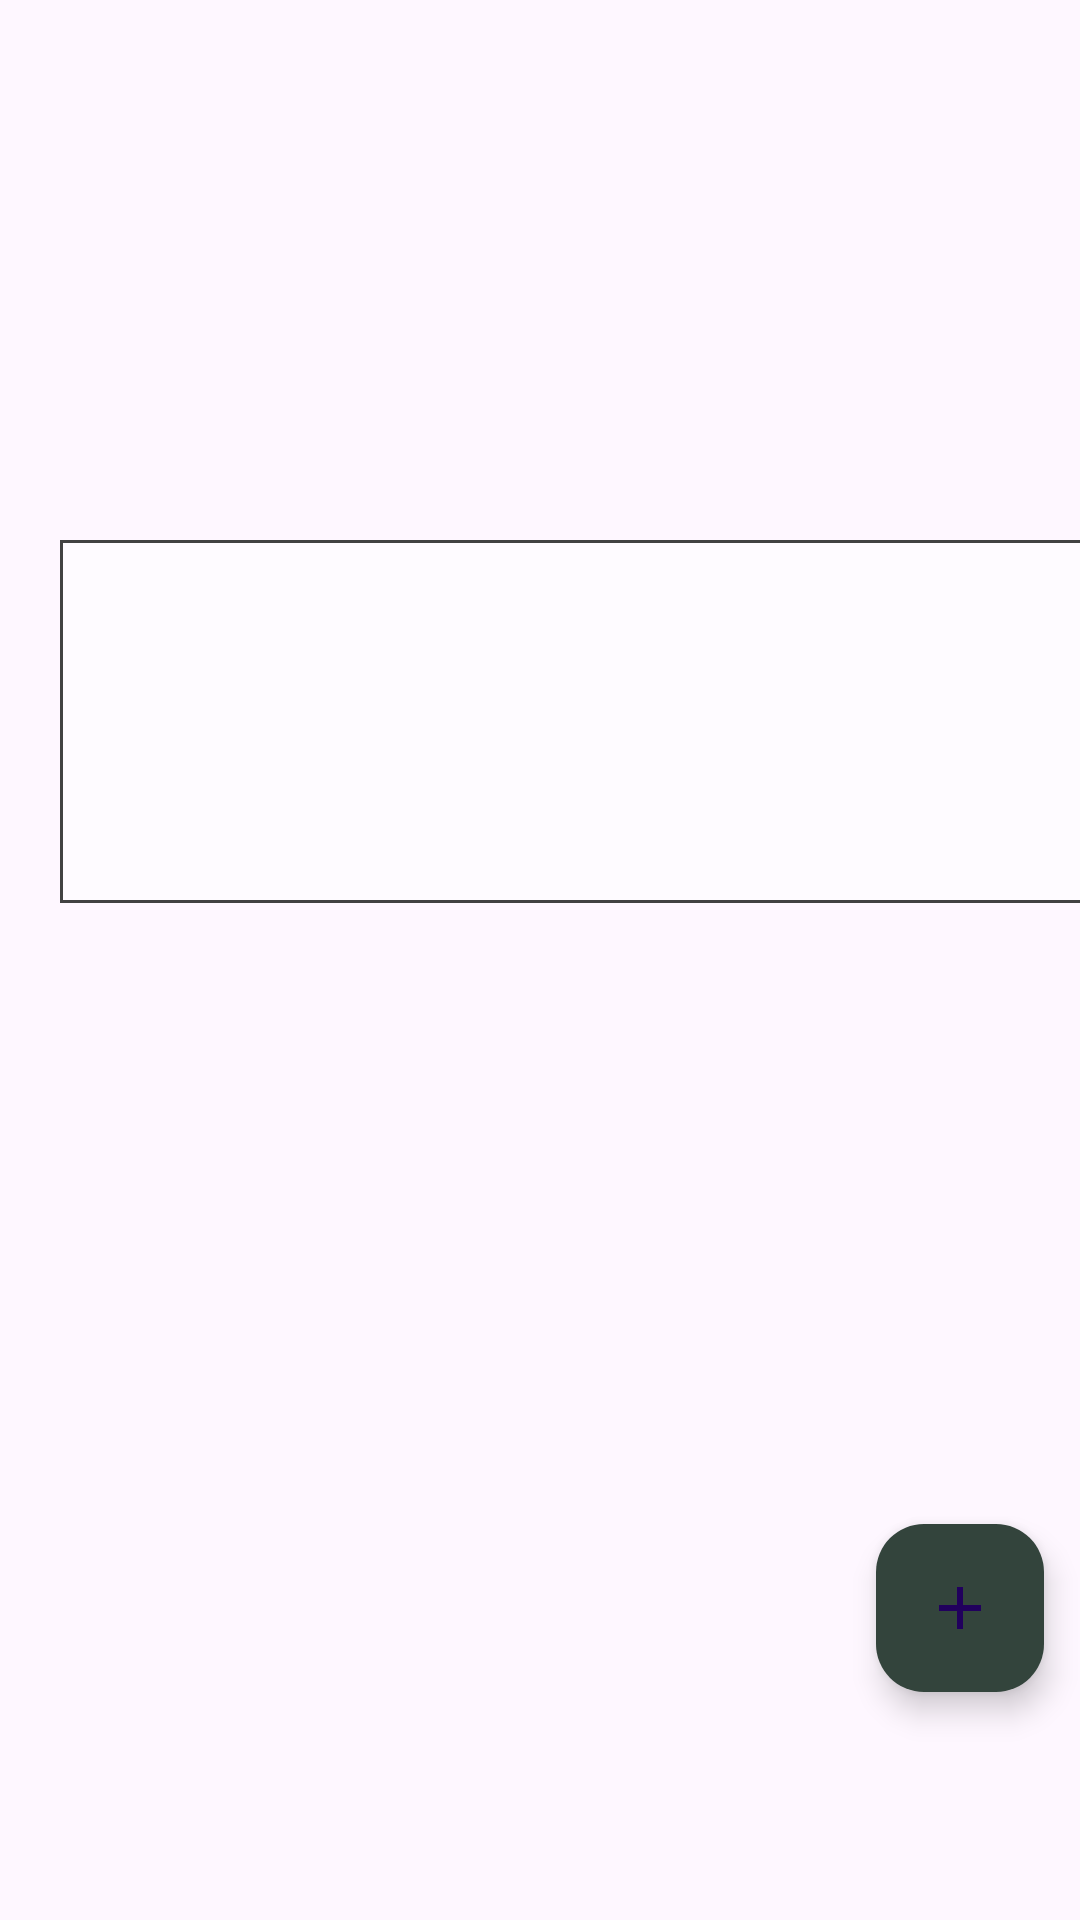

Named icons in this screenshot (1080 × 1920) and their bounding boxes, (x1, y1, x2, y2):
add: (876, 1524, 1044, 1692)
